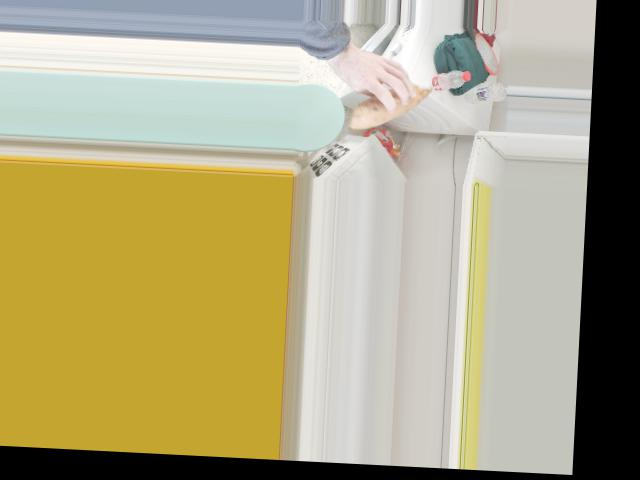sweet_potato: (362, 69, 427, 130)
